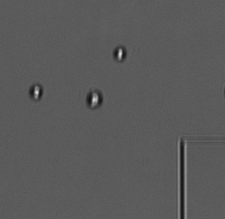Living Cell: (85, 88, 102, 109), (112, 43, 127, 63), (28, 83, 44, 101)
